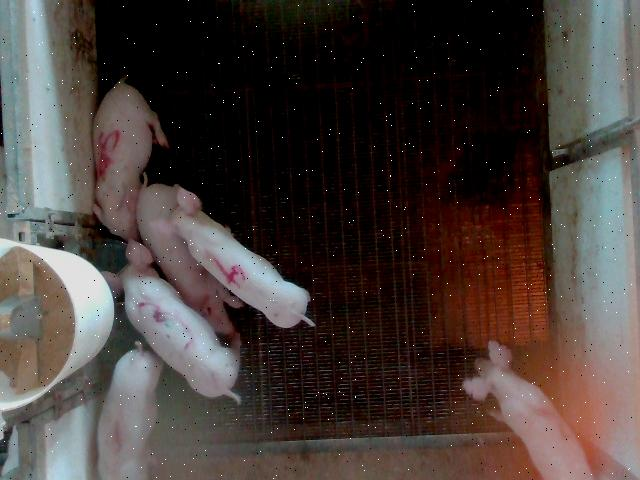pig-1: (99, 344, 164, 479)
pig-2: (464, 341, 594, 479)
pig-3: (102, 240, 241, 396)
pig-4: (152, 188, 314, 327)
pig-5: (92, 78, 169, 242)
